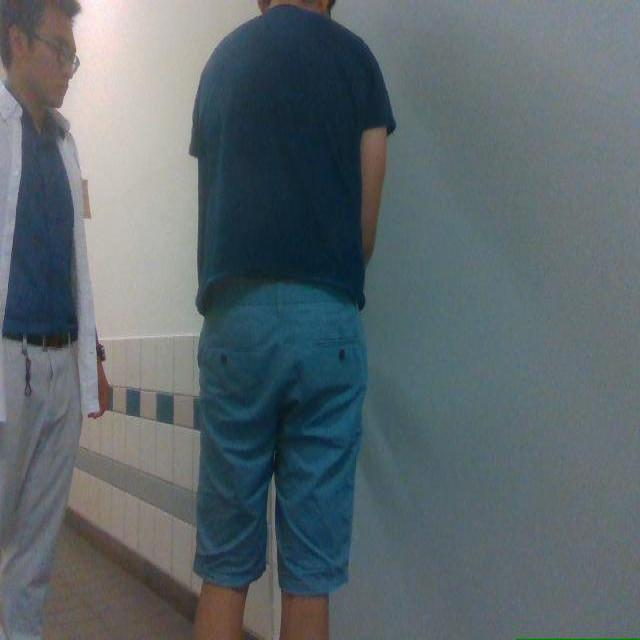humans: (190, 0, 394, 639), (0, 0, 108, 639)
